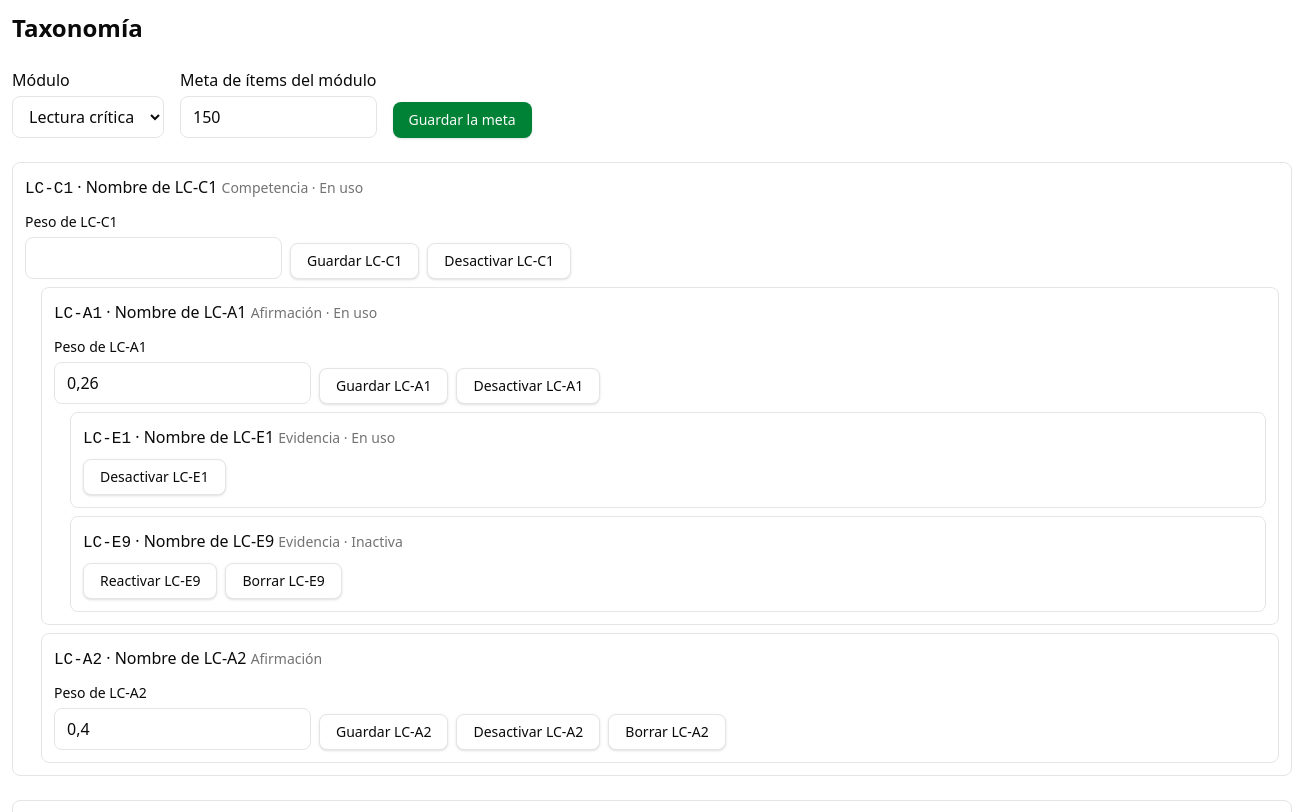
Scenario: taxonomía › muestra el árbol del módulo por tipo, con las inactivas marcadas
Expected: the list item "LC-A1" is shown, [41,287,1279,625]
Expected: the list item "LC-E9" shows "Evidencia", [278,532,340,551]
Select "Inglés" in the dropdown labelled "Módulo" at [88, 117], box [12,96,164,138]
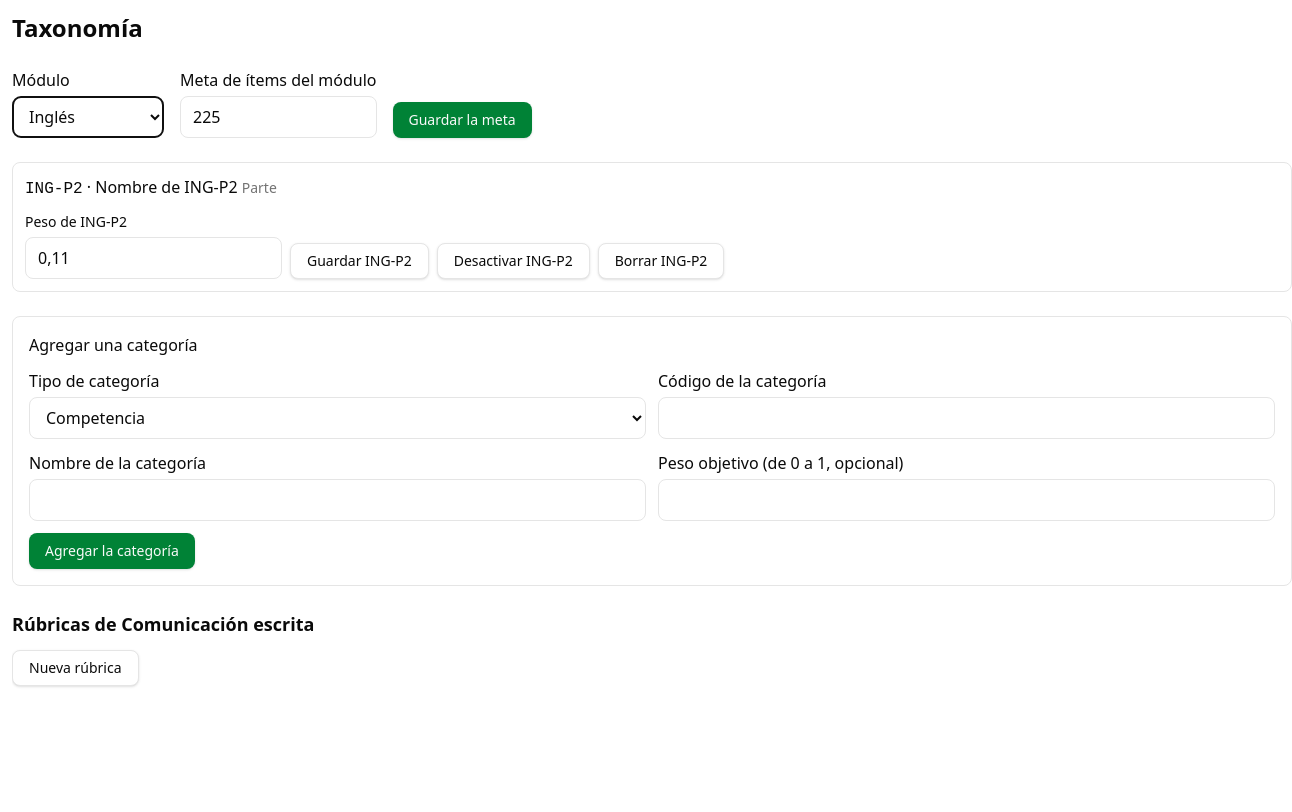
Expected: the list item "ING-P2" shows "Parte", [242,178,277,197]
